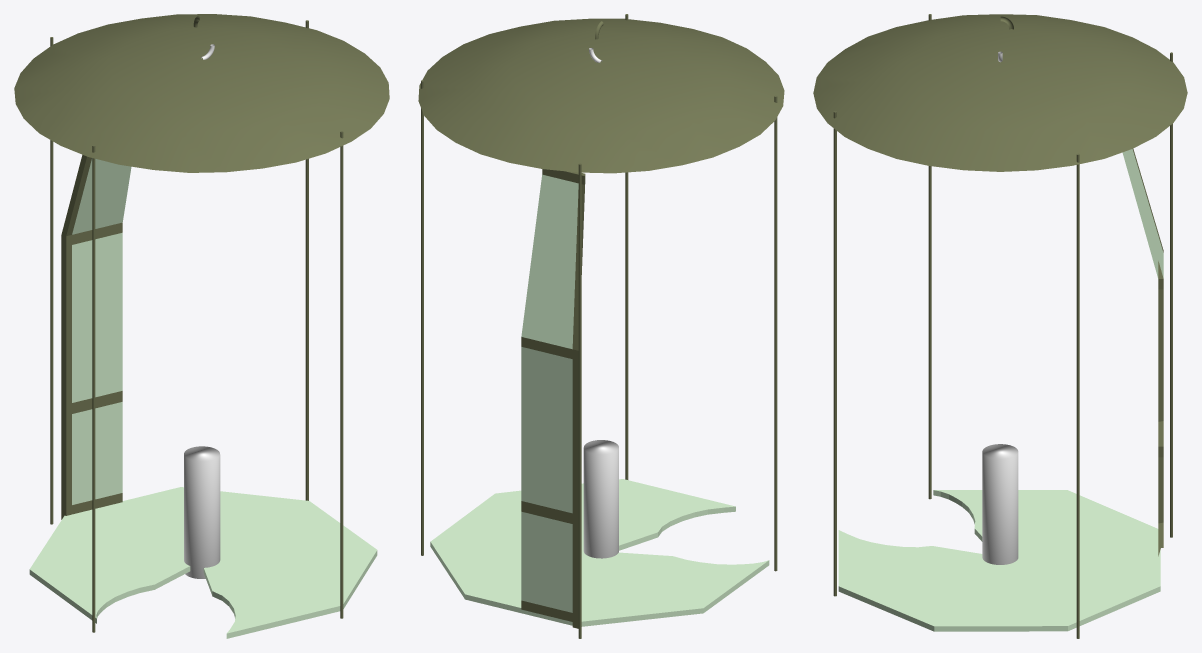
The model's file is lanterne_a_seau_2024.glb.
3 views of the same model, side by side, from view 1: azimuth 30°, elevation 25°; view 2: azimuth 150°, elevation 25°; view 3: azimuth 270°, elevation 25° (orthographic). The views are drawn at different scales.
Visible parts, largest first — view 1: chapreau, verre_fond, cage, Cylinder, montant.002, montant.001, montant.003, montant.00; view 2: chapreau, cage, verre_fond, Cylinder, montant.003, montant.002, montant.00, montant.001; view 3: chapreau, verre_fond, Cylinder, cage, montant.00, montant.001, montant.002, montant.003.
Part boxes in pixels (x1,y1,x2,y2): chapreau: (14,14,389,172); verre_fond: (29,487,377,638); cage: (61,155,131,519); Cylinder: (184,446,220,578); montant.002: (92,145,95,632); montant.001: (340,131,343,618); montant.003: (50,37,53,524); montant.00: (305,20,308,500); chapreau: (418,18,784,173); cage: (521,169,585,628); verre_fond: (430,479,769,626); Cylinder: (583,440,618,558); montant.003: (578,163,581,638); montant.002: (774,95,777,571); montant.00: (421,80,423,555); montant.001: (625,14,628,479); chapreau: (813,14,1187,171); verre_fond: (838,490,1160,631); Cylinder: (982,444,1018,564); cage: (1122,149,1163,556); montant.00: (1076,153,1079,638); montant.001: (833,111,836,596); montant.002: (928,14,931,499); montant.003: (1170,52,1172,537).
Size of the model in its own units: 0.4052 by 0.6593 by 0.4052.
